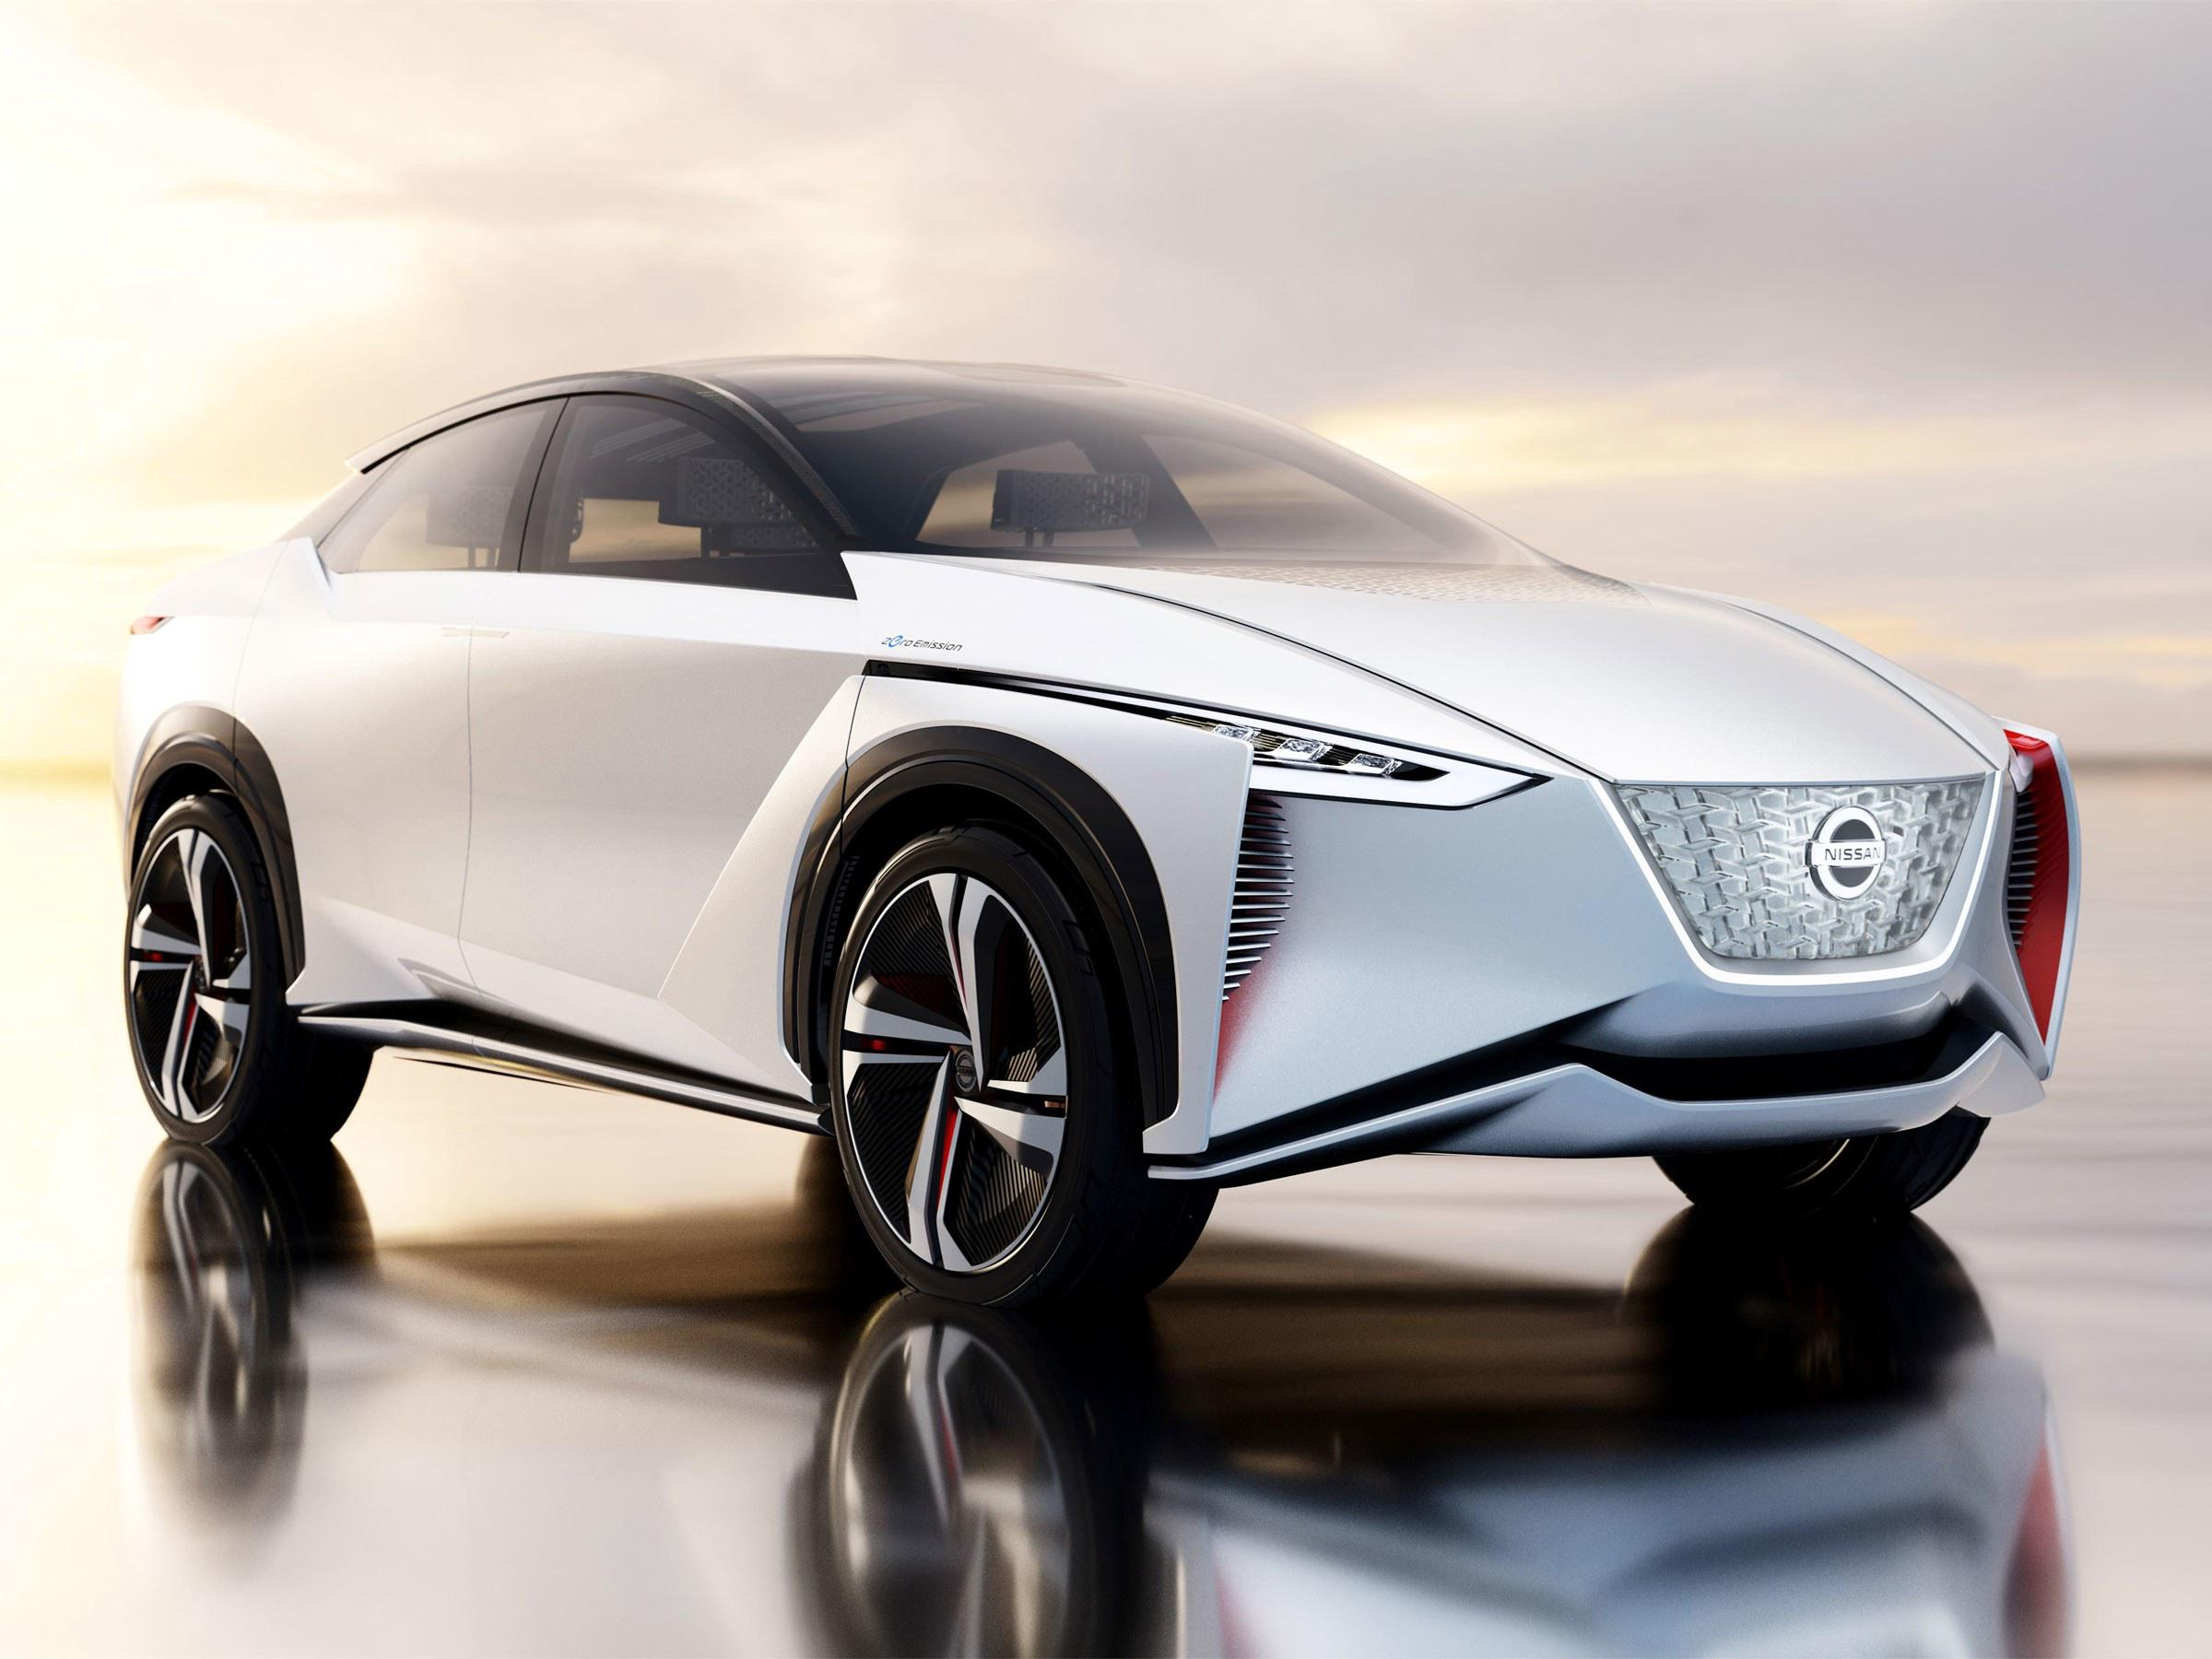car: (110, 336, 2153, 1352)
